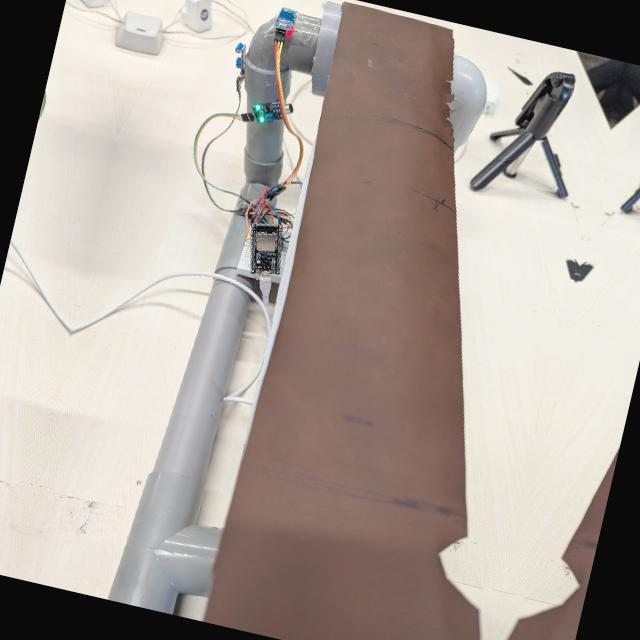belt_tear: (414, 501, 520, 640), (492, 519, 598, 640)
edge_damage: (415, 63, 496, 160)
